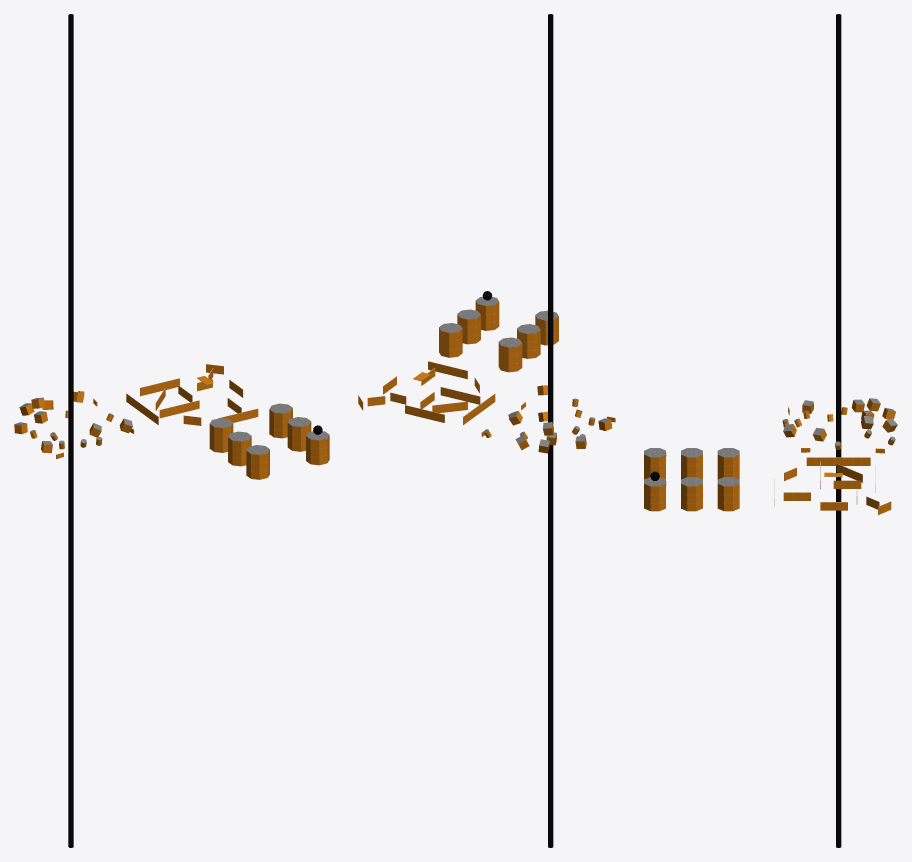
Rendered from Obstacles.glb.
3 renders of one model, left to right at view 1: azimuth 30°, elevation 25°; view 2: azimuth 150°, elevation 25°; view 3: azimuth 270°, elevation 25°, orthographic.
Visible parts, largest first — view 1: Obstacles; view 2: Obstacles; view 3: Obstacles.
Part boxes in pixels (left/top/right/bottom): Obstacles: left=14, top=14, right=329, bottom=847; Obstacles: left=358, top=14, right=615, bottom=847; Obstacles: left=644, top=14, right=897, bottom=847.
Size of what is drawn, in the model's own units: 54.93 by 200 by 55.3.
3 materials, 2 textured.
